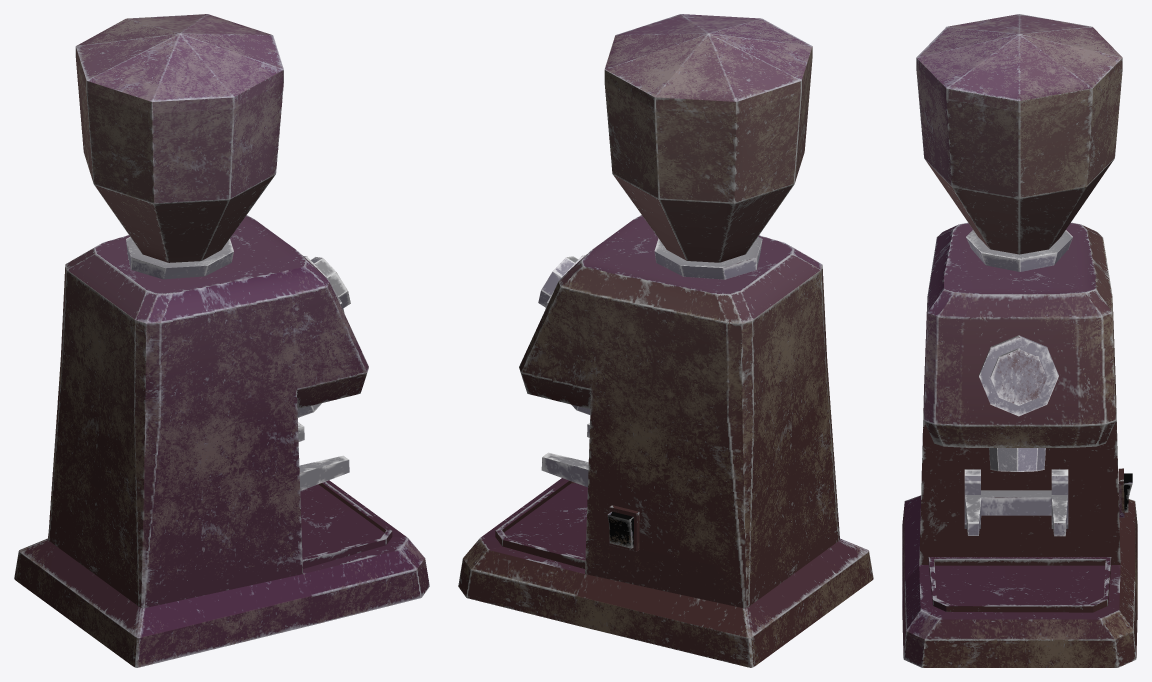
The model's file is Molino_Cafe_Limpio.glb.
3 renders of one model, left to right at view 1: azimuth 30°, elevation 25°; view 2: azimuth 150°, elevation 25°; view 3: azimuth 270°, elevation 25°, orthographic. The views are drawn at different scales.
Visible parts, largest first — view 1: Molino_Cuerpo, Molino_Horquilla; view 2: Molino_Cuerpo, Molino_Horquilla; view 3: Molino_Cuerpo, Molino_Horquilla, Molino_Boquilla.
Boxes of the visible parts, <box> form: Molino_Cuerpo: <box>14,14,429,667</box>; Molino_Horquilla: <box>298,422,349,490</box>; Molino_Cuerpo: <box>458,14,873,667</box>; Molino_Horquilla: <box>541,423,589,487</box>; Molino_Cuerpo: <box>902,14,1137,667</box>; Molino_Horquilla: <box>964,469,1068,536</box>; Molino_Boquilla: <box>989,448,1045,471</box>.
Bounding box in the file's own units: 0.3231 × 0.5719 × 0.2258.
2 materials, 2 textured.
